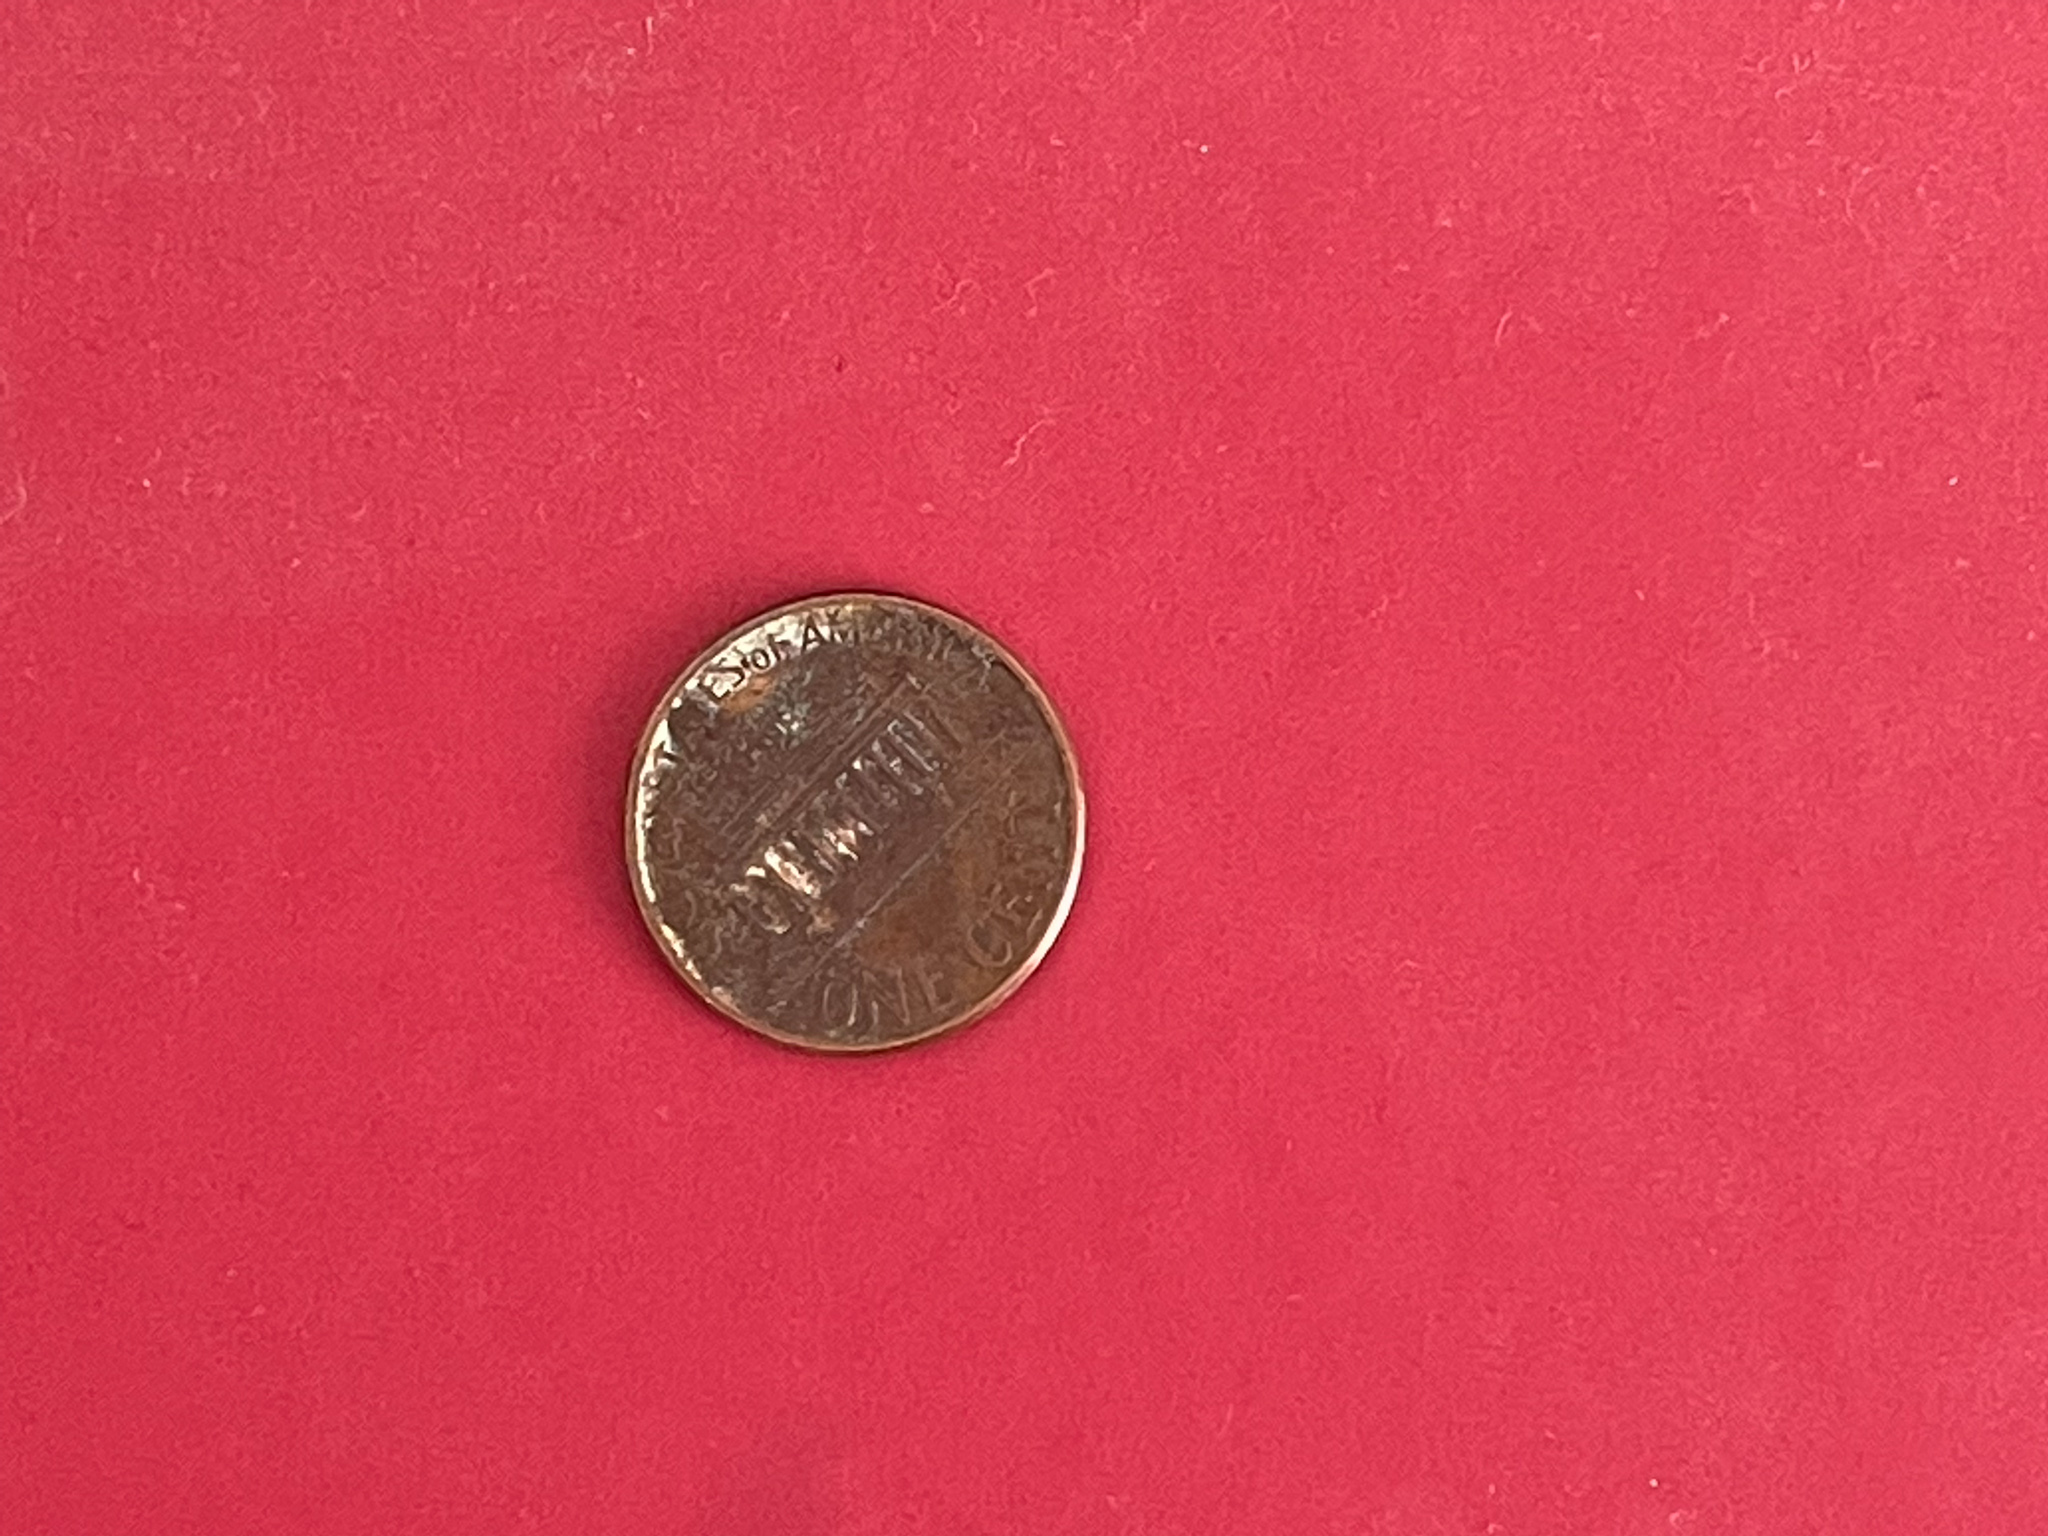penny: (614, 578, 1092, 1062)
